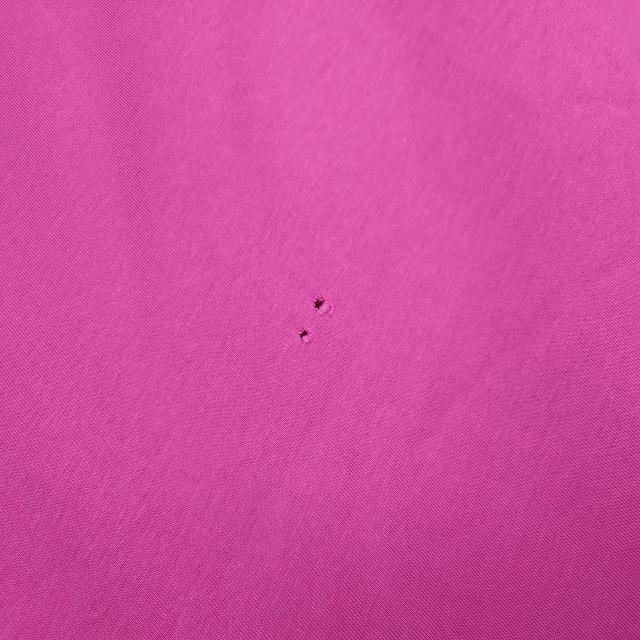other: (250, 272, 391, 370)
